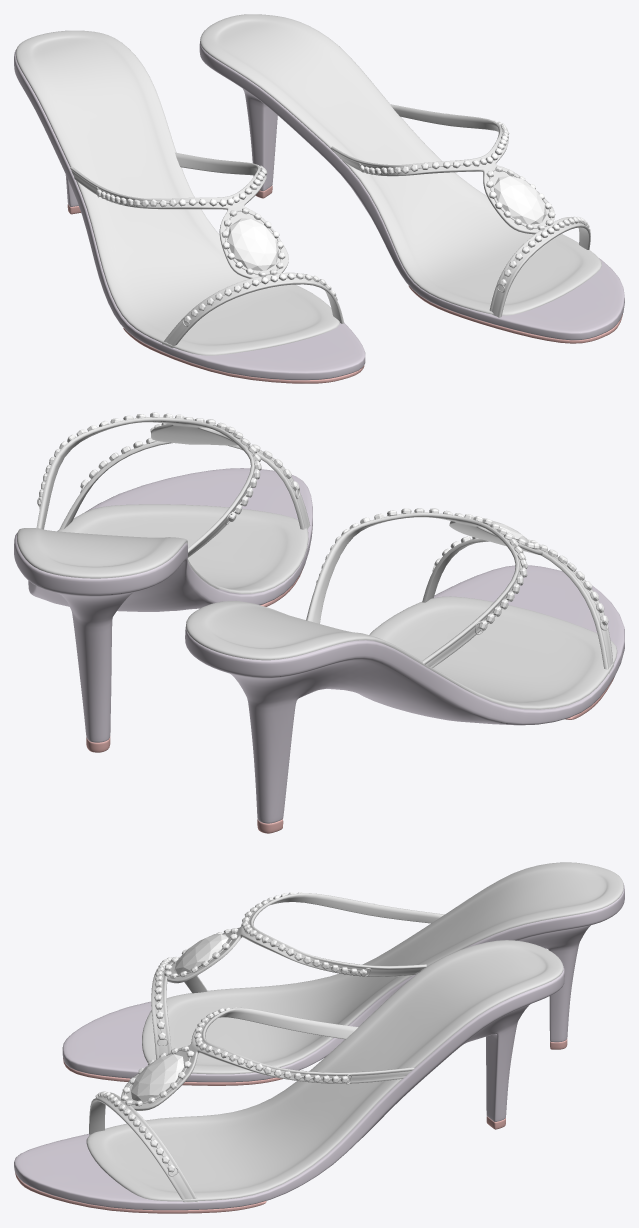
Rendered from shoes1.glb.
3 views of the same model, one above another, from view 1: azimuth 30°, elevation 25°; view 2: azimuth 150°, elevation 25°; view 3: azimuth 270°, elevation 25° (orthographic). The views are drawn at different scales.
Size of the model in its own units: 1.28 by 0.4494 by 1.54.
